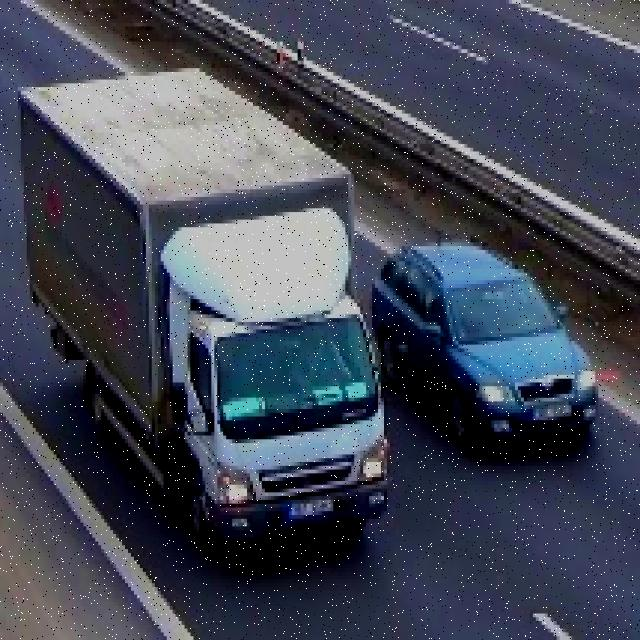truck: (18, 68, 393, 549)
